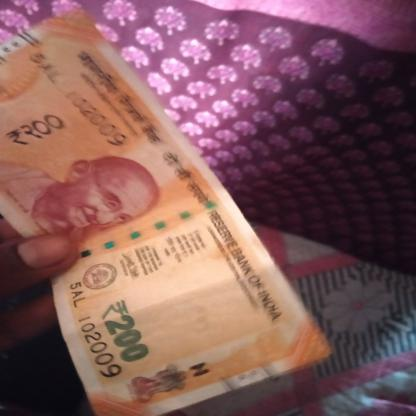New200Front: (0, 14, 298, 415)
